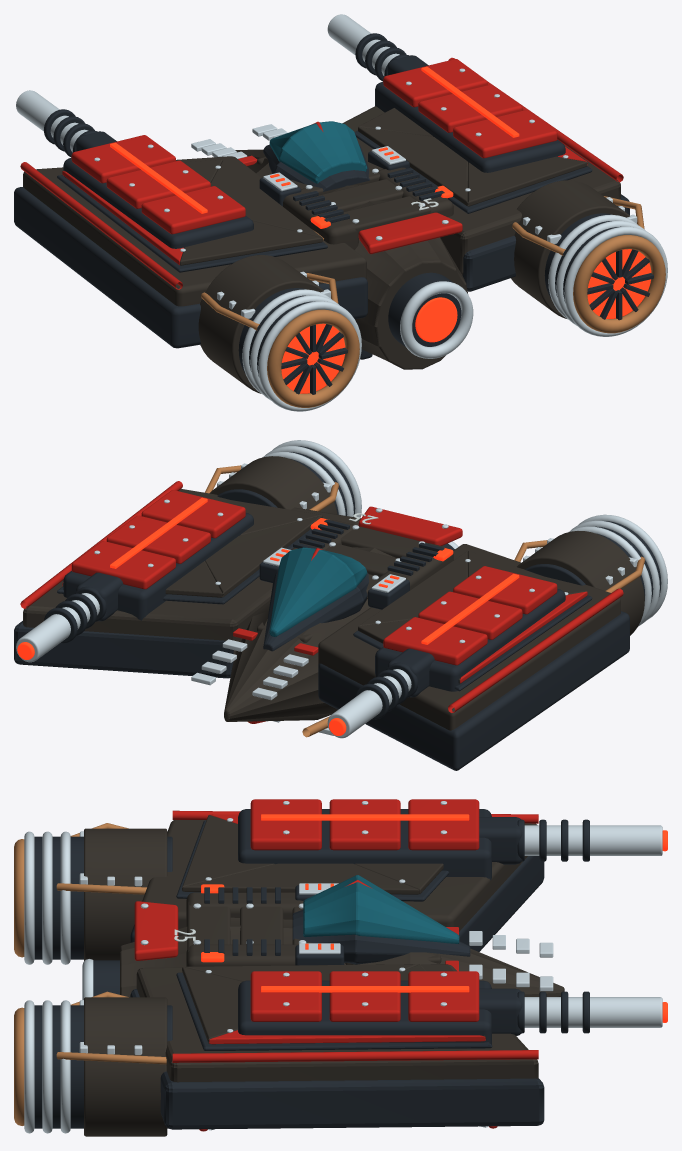
3 views of the same model, one above another, from view 1: azimuth 30°, elevation 25°; view 2: azimuth 150°, elevation 25°; view 3: azimuth 270°, elevation 25° (orthographic). The views are drawn at different scales.
Visible parts, largest first — view 1: SolidHull_25; view 2: SolidHull_25; view 3: SolidHull_25.
Boxes of the visible parts, x1,y1,x2,y2 form: SolidHull_25: [14, 14, 667, 411]; SolidHull_25: [14, 440, 667, 770]; SolidHull_25: [14, 799, 667, 1136].
Size of the model in its own units: 3.3 by 1.21 by 3.6.
